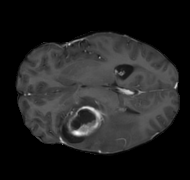Edema: (57, 97, 139, 151)
EnhancingTumors: (62, 103, 107, 139)
Necrosis: (63, 104, 107, 137)
